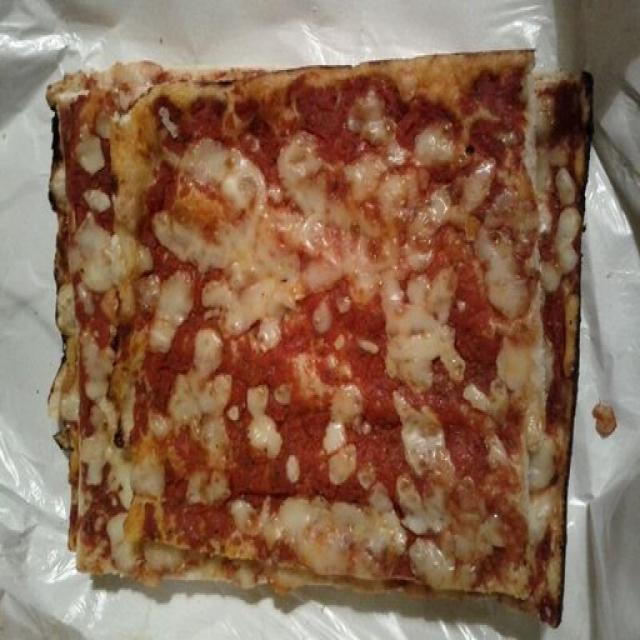Pizza: (46, 47, 592, 627)
